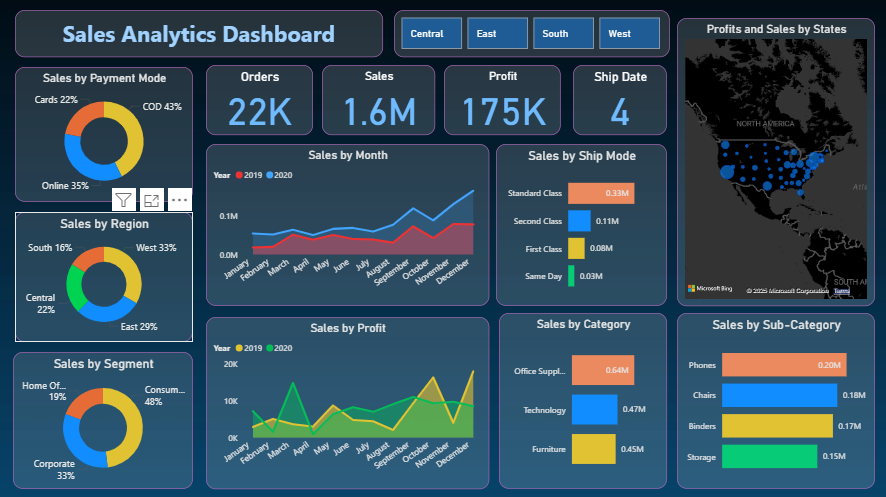

This screenshot's page, from the dashboard's own definition file:
{"tool":"powerbi","page":{"name":"Page 1","canvas":[1280,720],"ordinal":0},"visuals":[{"type":"clusteredBarChart","title":"Sales by Category","fields":{"Category":["SuperStore_Sales_Dataset (2).Category"],"Y":["Sum(SuperStore_Sales_Dataset (2).Sales)"]},"box":[720,452.2,241.9,253.4],"z":0},{"type":"clusteredBarChart","title":"Sales by Sub-Category","fields":{"Category":["SuperStore_Sales_Dataset (2).Sub-Category"],"Y":["Sum(SuperStore_Sales_Dataset (2).Sales)"]},"box":[976.3,452.2,285.1,253.4],"z":1000},{"type":"clusteredBarChart","title":"Sales by Ship Mode","fields":{"Category":["SuperStore_Sales_Dataset (2).Ship Mode"],"Y":["Sum(SuperStore_Sales_Dataset (2).Sales)"]},"box":[715.7,208.8,246.2,233.3],"z":2000},{"type":"areaChart","title":"Sales by Month","fields":{"Y":["Sum(SuperStore_Sales_Dataset (2).Sales)"],"Category":["SuperStore_Sales_Dataset (2).Order Date.Variation.Date Hierarchy.Month","SuperStore_Sales_Dataset (2).Order Date.Variation.Date Hierarchy.Day"],"Series":["SuperStore_Sales_Dataset (2).Order Date.Variation.Date Hierarchy.Year"]},"box":[298.1,208.8,407.5,233.3],"z":3000},{"type":"areaChart","title":"Sales by Profit","fields":{"Category":["SuperStore_Sales_Dataset (2).Order Date.Variation.Date Hierarchy.Month","SuperStore_Sales_Dataset (2).Order Date.Variation.Date Hierarchy.Day"],"Series":["SuperStore_Sales_Dataset (2).Order Date.Variation.Date Hierarchy.Year"],"Y":["Sum(SuperStore_Sales_Dataset (2).Profit)"]},"box":[298.1,457.9,407.5,247.7],"z":4000},{"type":"map","title":"Profits and Sales by States","fields":{"Category":["SuperStore_Sales_Dataset (2).State"],"Size":["Sum(SuperStore_Sales_Dataset (2).Sales)"]},"box":[976.3,27.4,285.1,414.7],"z":5000},{"type":"donutChart","title":"Sales by Segment","fields":{"Category":["SuperStore_Sales_Dataset (2).Segment"],"Y":["Sum(SuperStore_Sales_Dataset (2).Sales)"]},"box":[20.2,508.3,259.2,197.3],"z":6000},{"type":"donutChart","title":"Sales by Payment Mode","fields":{"Category":["SuperStore_Sales_Dataset (2).Payment Mode"],"Y":["Sum(SuperStore_Sales_Dataset (2).Sales)"]},"box":[23,97.9,256.3,194.4],"z":7000},{"type":"advancedSlicerVisual","fields":{"Values":["SuperStore_Sales_Dataset (2).Region"]},"box":[568.8,15.8,397.4,67.7],"z":8000},{"type":"textbox","box":[23,15.8,529.9,67.7],"z":9000},{"type":"card","title":"Sales","fields":{"Values":["Sum(SuperStore_Sales_Dataset (2).Sales)"]},"box":[465.1,95,162.7,100.8],"z":10000},{"type":"card","title":"Orders","fields":{"Values":["Sum(SuperStore_Sales_Dataset (2).Quantity)"]},"box":[298.1,95,154.1,100.8],"z":11000},{"type":"card","title":"Profit","fields":{"Values":["Sum(SuperStore_Sales_Dataset (2).Profit)"]},"box":[640.8,95,168.5,100.8],"z":12000},{"type":"card","title":"Ship Date ","fields":{"Values":["Avg(SuperStore_Sales_Dataset (2).AvgDelivery)"]},"box":[826.6,95,135.4,100.8],"z":13000},{"type":"donutChart","title":"Sales by Region ","fields":{"Category":["SuperStore_Sales_Dataset (2).Region"],"Y":["Sum(SuperStore_Sales_Dataset (2).Sales)"]},"box":[23,306.7,256.3,187.2],"z":14000}]}

Visuals, with their boxes in screenshot pixels (x1, y1, x2, y2), scaled from the page's 1280x720 canvas onto the 886x497 screenshot:
"Sales by Category" clusteredBarChart: pyautogui.locateOnScreen(498, 312, 666, 487)
"Sales by Sub-Category" clusteredBarChart: pyautogui.locateOnScreen(676, 312, 873, 487)
"Sales by Ship Mode" clusteredBarChart: pyautogui.locateOnScreen(495, 144, 666, 305)
"Sales by Month" areaChart: pyautogui.locateOnScreen(206, 144, 488, 305)
"Sales by Profit" areaChart: pyautogui.locateOnScreen(206, 316, 488, 487)
"Profits and Sales by States" map: pyautogui.locateOnScreen(676, 19, 873, 305)
"Sales by Segment" donutChart: pyautogui.locateOnScreen(14, 351, 193, 487)
"Sales by Payment Mode" donutChart: pyautogui.locateOnScreen(16, 68, 193, 202)
advancedSlicerVisual - SuperStore_Sales_Dataset (2).Region: pyautogui.locateOnScreen(394, 11, 669, 58)
textbox: pyautogui.locateOnScreen(16, 11, 383, 58)
"Sales" card: pyautogui.locateOnScreen(322, 66, 435, 135)
"Orders" card: pyautogui.locateOnScreen(206, 66, 313, 135)
"Profit" card: pyautogui.locateOnScreen(444, 66, 560, 135)
"Ship Date " card: pyautogui.locateOnScreen(572, 66, 666, 135)
"Sales by Region " donutChart: pyautogui.locateOnScreen(16, 212, 193, 341)
